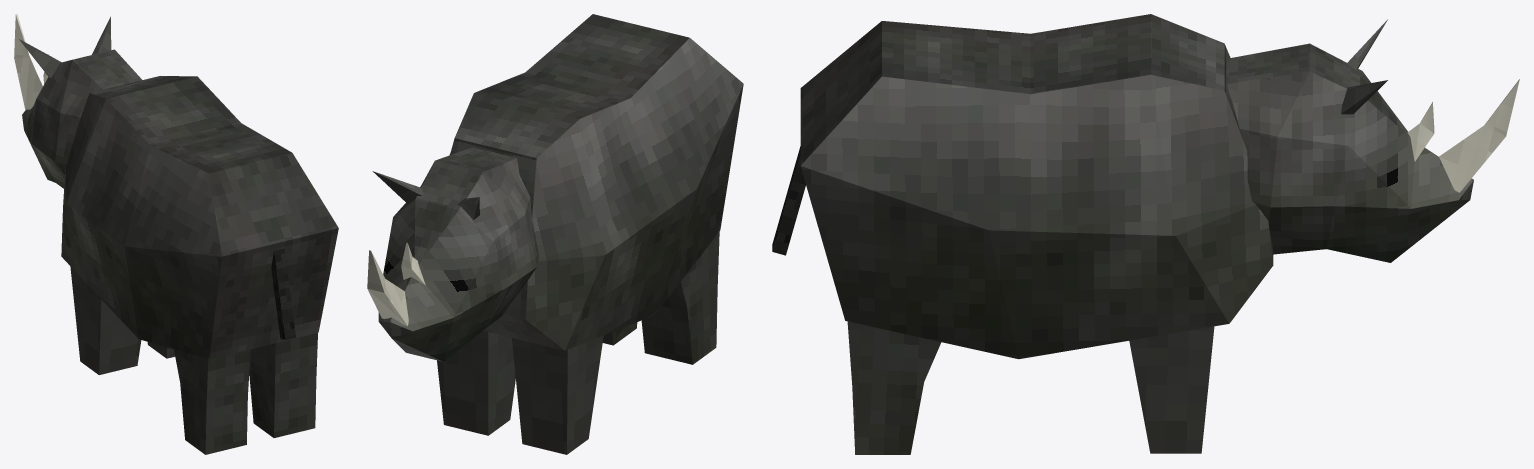
File: Rhino_Rhino.glb
3 renders of one model, left to right at view 1: azimuth 30°, elevation 25°; view 2: azimuth 150°, elevation 25°; view 3: azimuth 270°, elevation 25°, orthographic. The views are drawn at different scales.
Parts seen in each view (by area): view 1: Body, Head, Leg3, Leg4, Leg1; view 2: Body, Head, Leg1, Leg2, Leg3; view 3: Body, Head, Leg4, Leg2.
Part boxes in pixels (x1,y1,x2,y2): Body: [61, 76, 338, 359]; Head: [14, 14, 142, 188]; Leg3: [174, 349, 250, 454]; Leg4: [249, 333, 317, 437]; Leg1: [70, 266, 141, 374]; Body: [449, 14, 743, 350]; Head: [367, 147, 538, 361]; Leg1: [512, 335, 603, 454]; Leg2: [437, 330, 515, 435]; Leg3: [641, 226, 719, 364]; Body: [772, 14, 1273, 359]; Head: [1226, 19, 1519, 262]; Leg4: [847, 320, 941, 454]; Leg2: [1129, 326, 1214, 453].
Bounding box in the file's own units: 1.06 × 1.6 × 2.89.
Materials: 1 (1 with a texture image).
